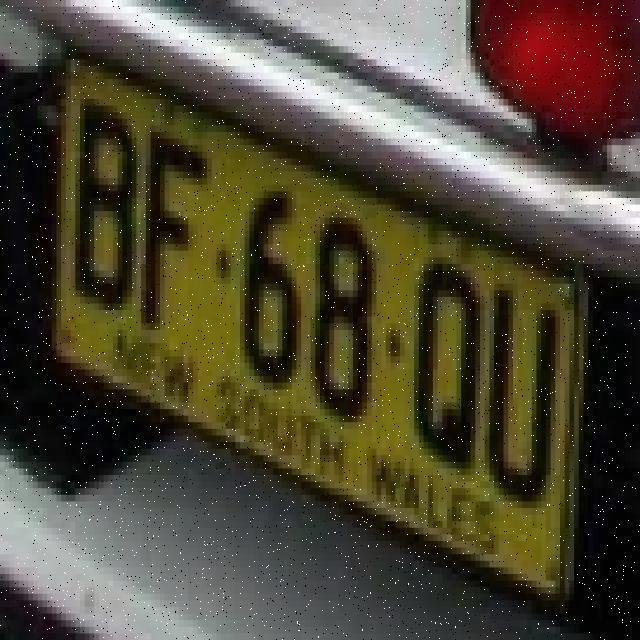LicensePlate: (45, 38, 602, 612)
